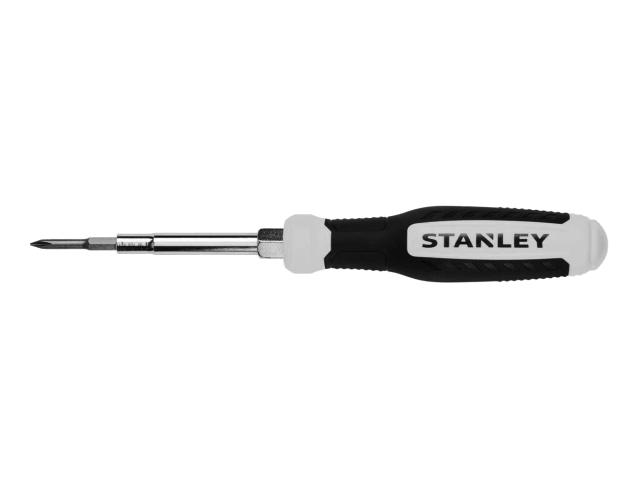Screwdriver: (32, 206, 608, 282)
